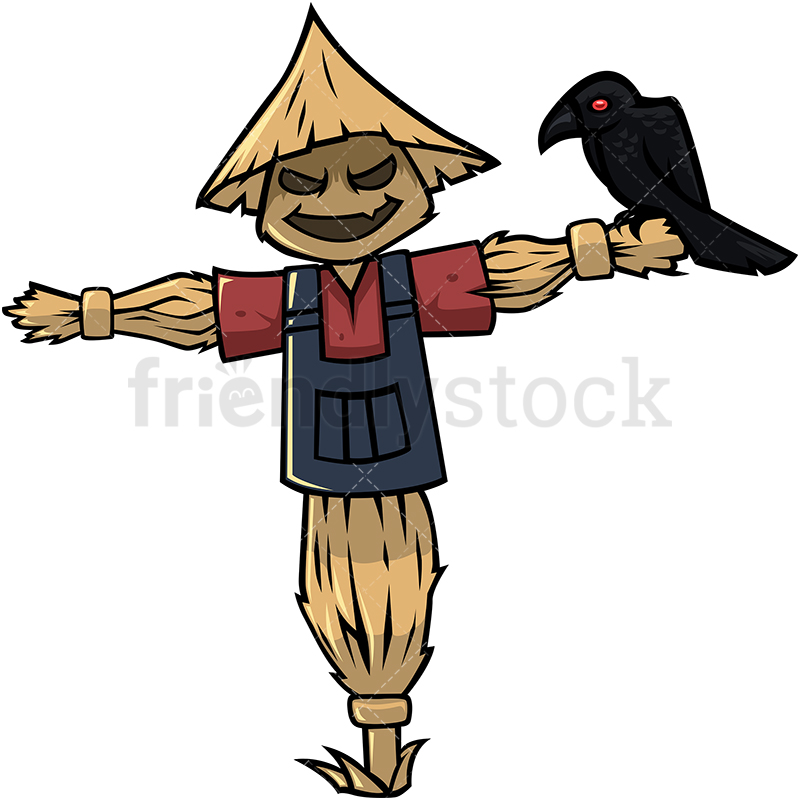person-like: (7, 1, 702, 800)
